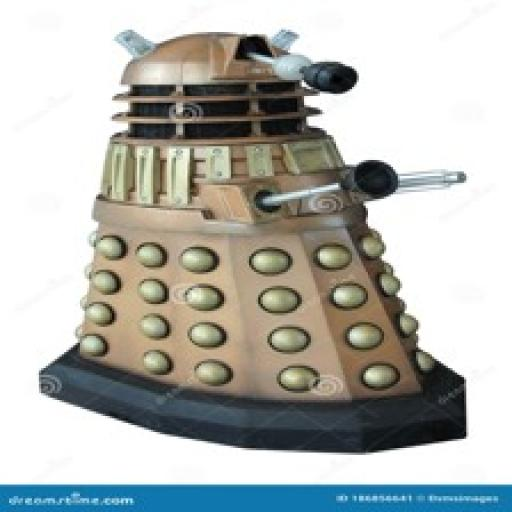dalek: (32, 21, 466, 454)
